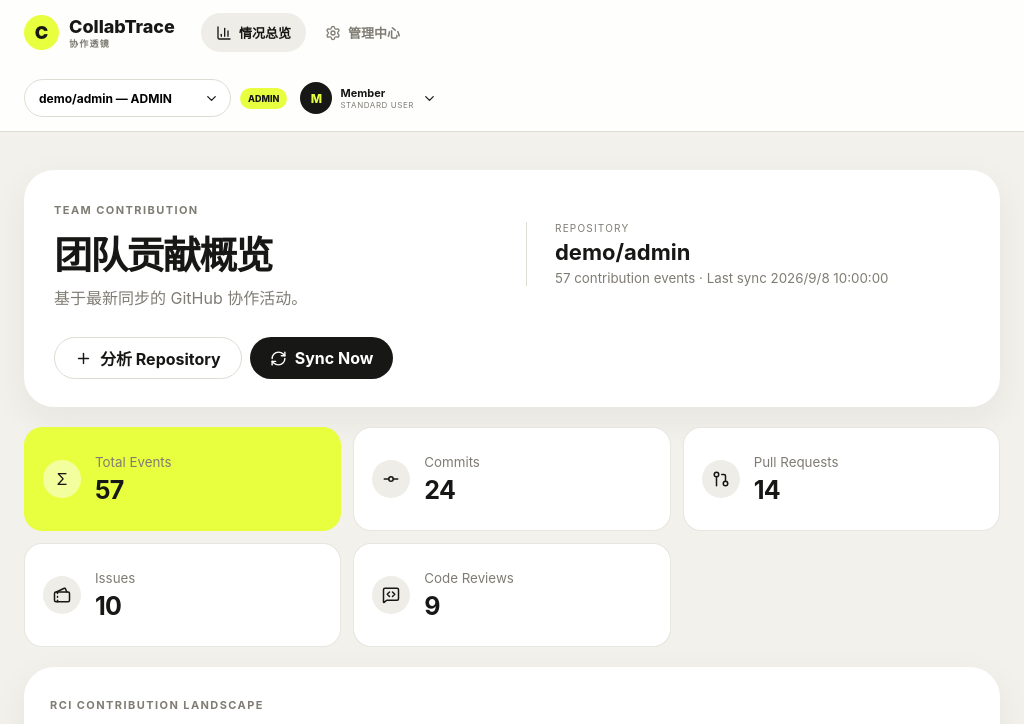
repository-scoped RBAC and navigation › updates controls immediately when switching ADMIN repository to MEMBER repository
The width and height of the screenshot is (1024, 724).
Expected: the button "Sync Now" is shown, 250,337 -> 394,379
Expected: the link "管理中心" is shown, 325,24 -> 400,41
Select "demo/member — MEMBER" in the dropdown named "选择 Repository" at coordinates (128, 98), box 24,79 -> 231,117
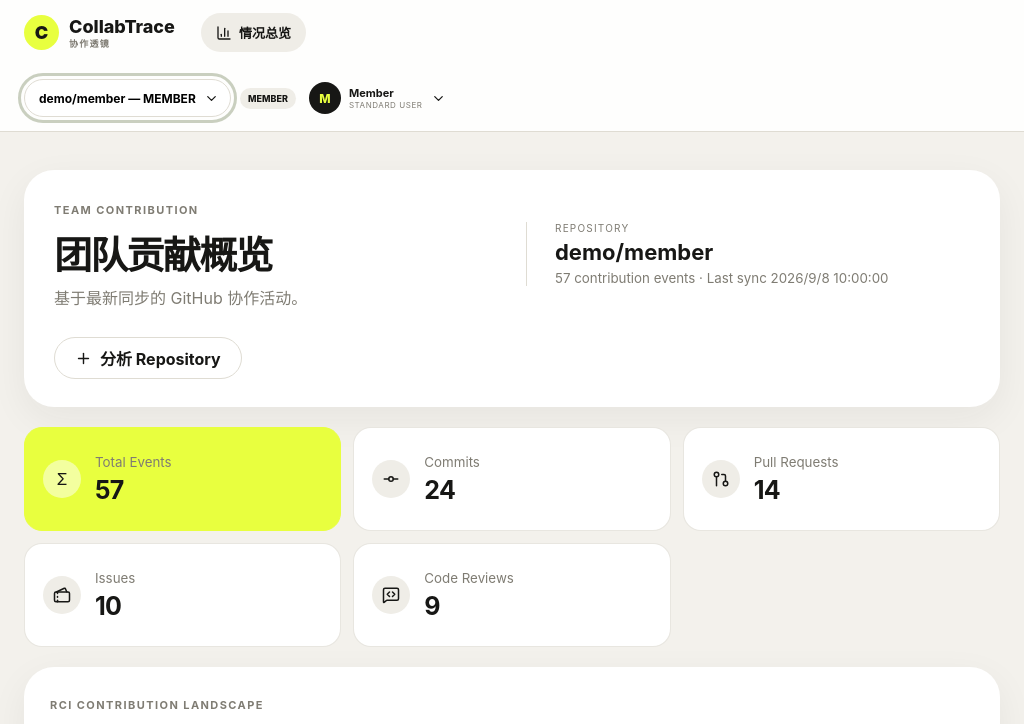
Expected: the button "Sync Now" is gone
Expected: the link "管理中心" is gone
Expected: the text "MEMBER" is shown, 240,88 -> 296,108
